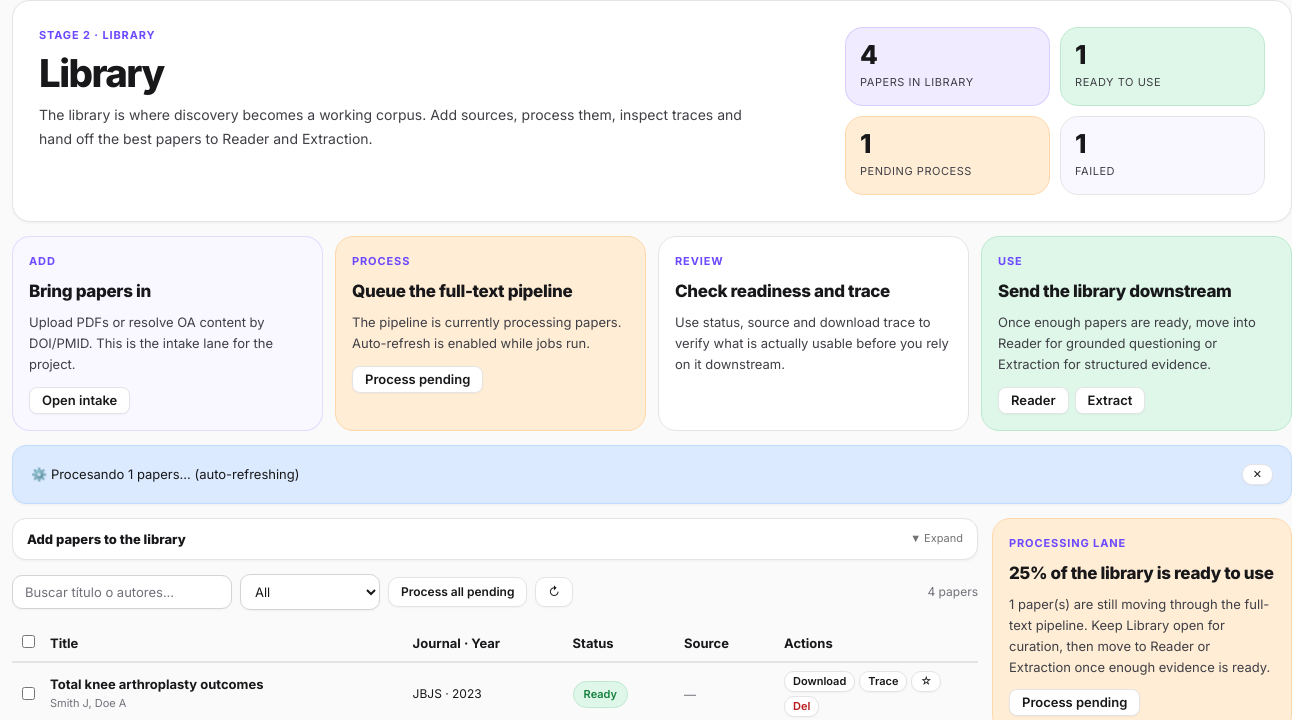
Scenario: PapersPage — status filter › filters to only failed papers when "failed" filter selected
This screenshot has width=1292, height=720.
Select "Failed" in the dropdown at [310, 592], box [240,574,380,610]
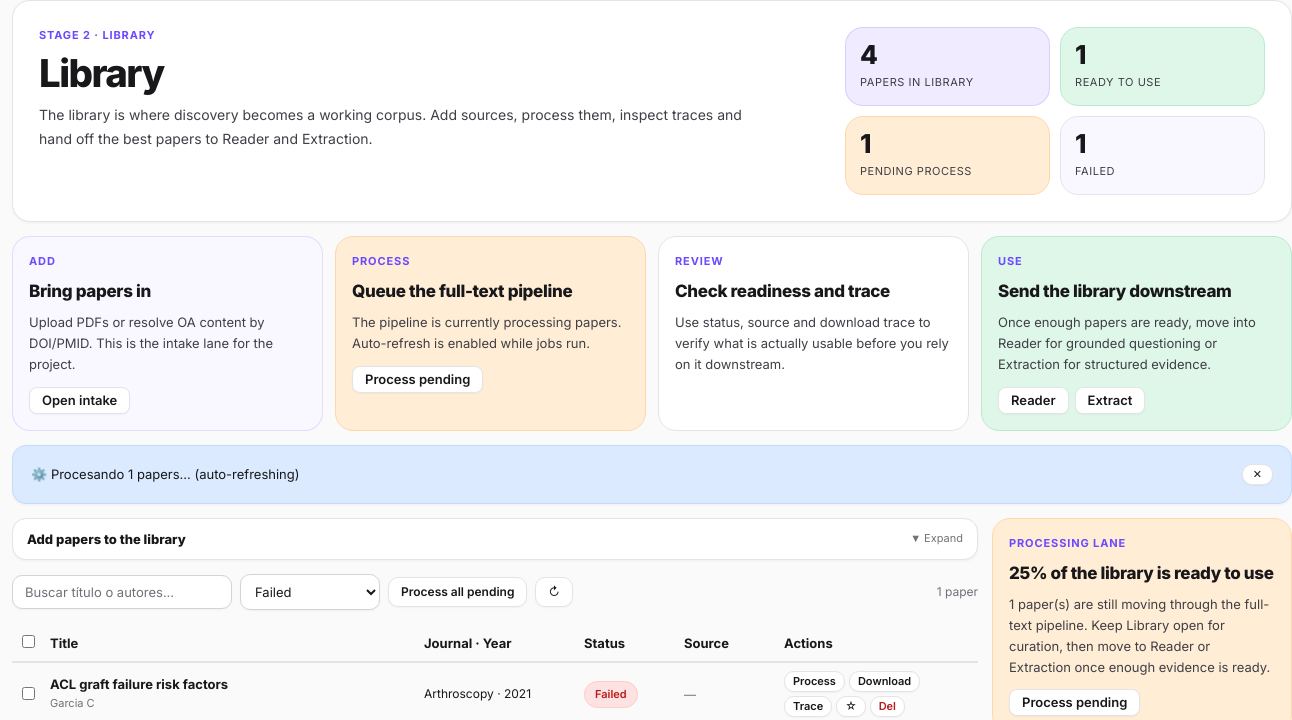
Expected: the text "ACL graft failure risk factors" is shown, [50,676,228,692]
Expected: the text "Total knee arthroplasty outcomes" is gone
